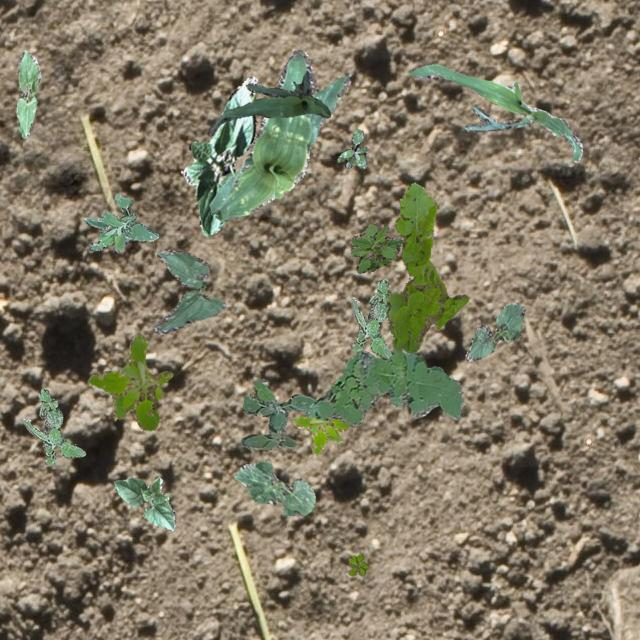crop: (208, 48, 349, 218), (408, 64, 582, 162), (180, 74, 258, 236), (206, 70, 330, 134), (153, 248, 225, 332), (233, 460, 314, 514), (464, 302, 524, 361), (112, 476, 176, 530), (15, 49, 40, 138)
weed: (386, 182, 468, 352), (304, 350, 462, 426), (86, 332, 172, 430), (240, 378, 316, 448), (22, 386, 84, 464), (84, 192, 158, 250), (349, 278, 392, 358), (349, 222, 402, 272), (292, 414, 349, 454), (337, 128, 368, 168), (348, 552, 368, 574)
